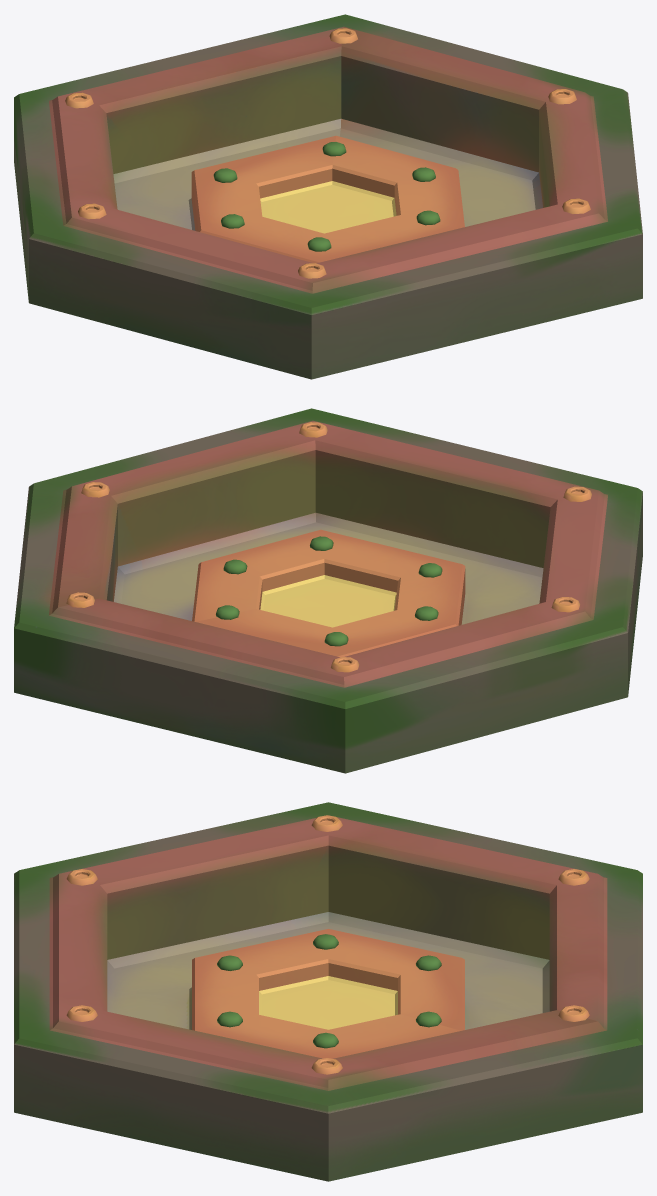
Rendered from award-pond.fbx.
The picture shows the model from 3 angles, top to bottom: view 1: azimuth 30°, elevation 25°; view 2: azimuth 150°, elevation 25°; view 3: azimuth 270°, elevation 25°; orthographic projection. The views are drawn at different scales.
Parts seen in each view (by area): view 1: pond; view 2: pond; view 3: pond.
Boxes of the visible parts, box(x1,y1,x2,y2) form: pond: box(14, 14, 642, 379); pond: box(14, 408, 642, 773); pond: box(14, 802, 642, 1181).
Bounding box in the file's own units: 814 × 104 × 700.
